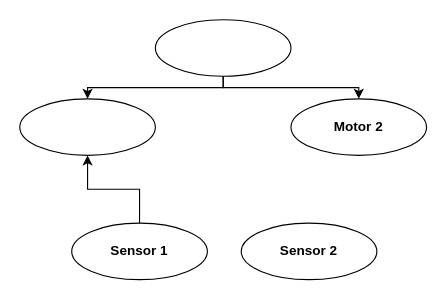
The diagram is 446 pixels wide and 299 high, and some of its shapes have lost their labels. Each missing label, with the centre of its shape:
"Collision" goes at (x=222, y=47).
"Motor 1" goes at (x=87, y=126).
